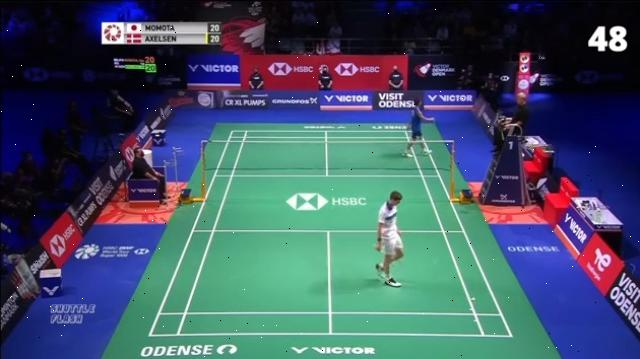Shuttlecock: (468, 294, 478, 304)
